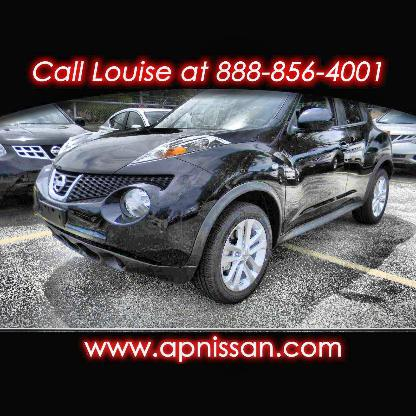Nissan Juke Hatchback 2012: (34, 88, 399, 307)
